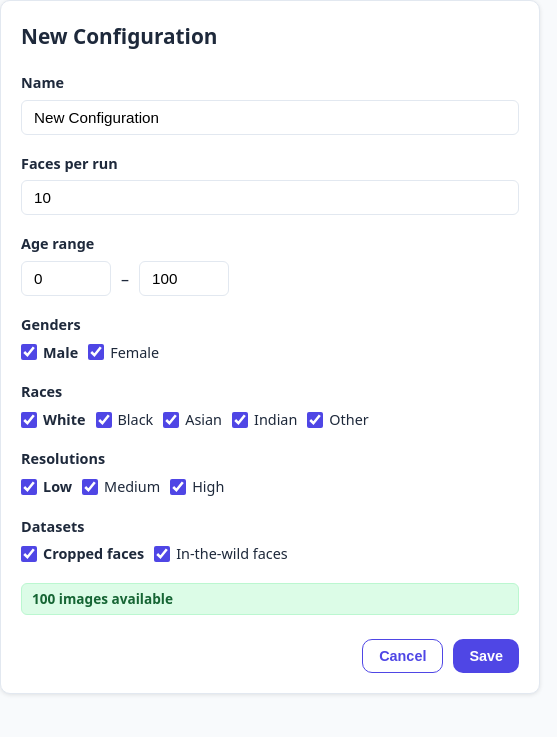
Test case: ConfigForm validation › shows error when max age <= min age
Step 1. Replace the text in the 2nd number field with placeholder "Min" with "50" → (66, 278), box [21,261,111,296]
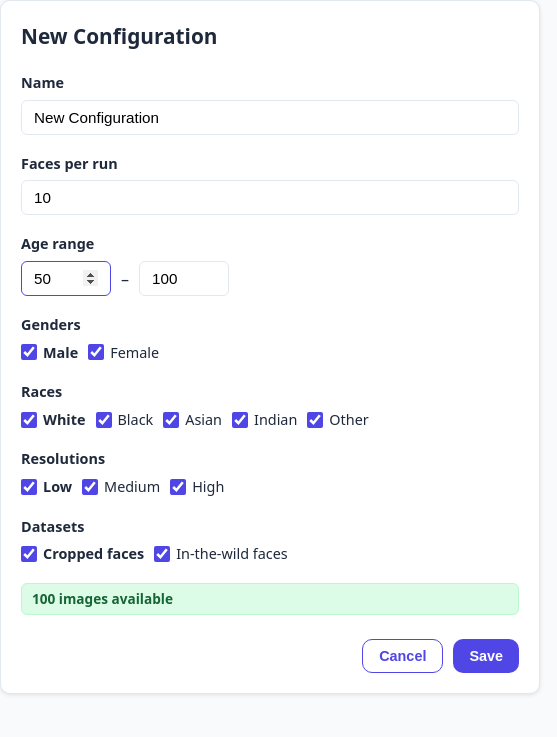
Step 2. Replace the text in the 3rd number field with placeholder "Max" with "30" → (184, 278), box [139,261,229,296]
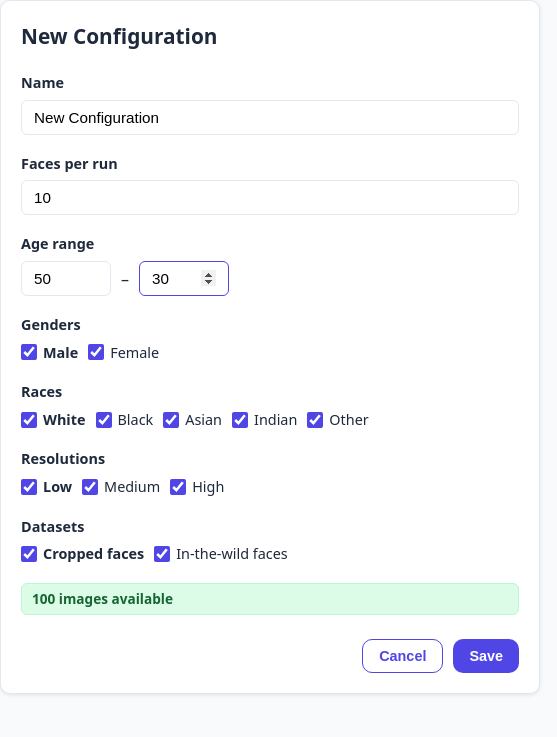
Step 3. Click the button "Save" → (486, 656), box [453,639,519,673]
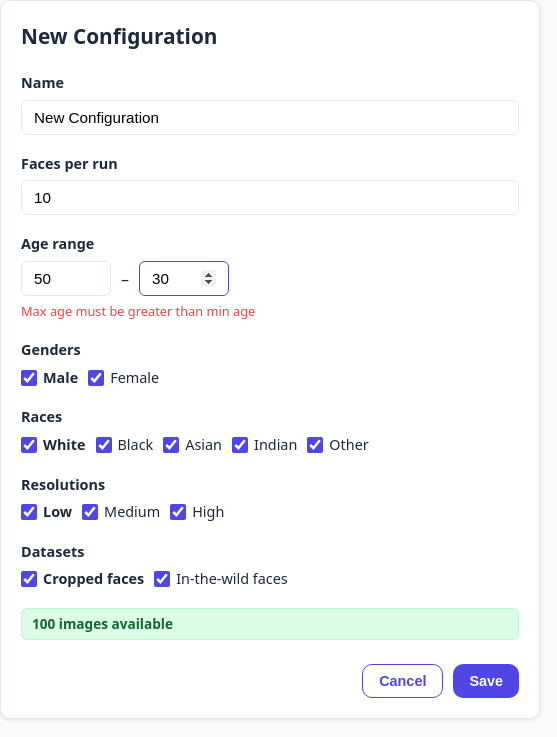
Result: the text "Max age must be greater than min age" is shown at [21,302,255,320]
